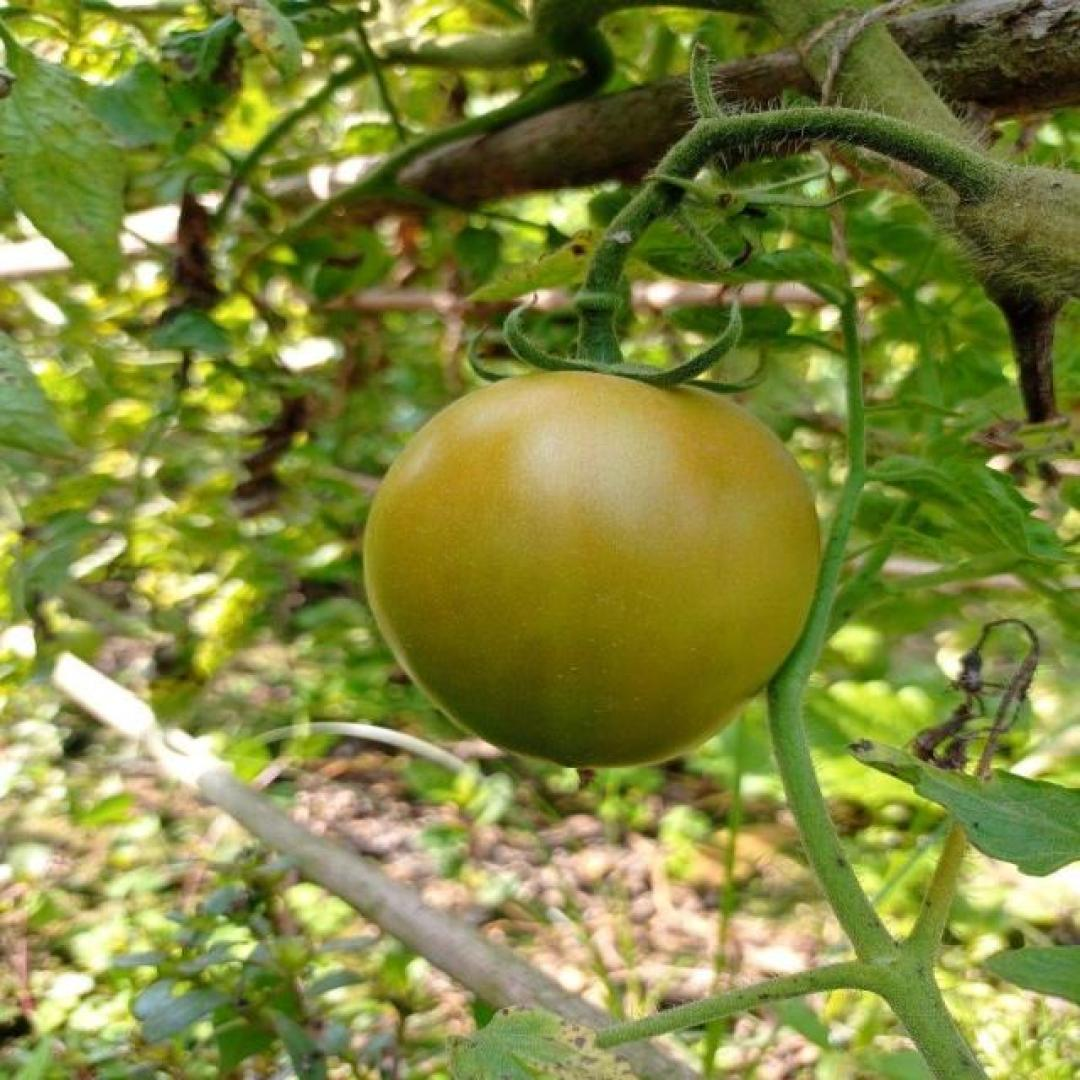setengah_matang: (360, 363, 824, 773)
